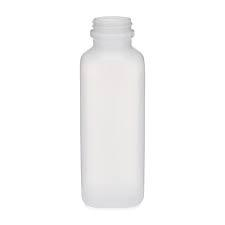Container for household chemicals: (69, 13, 156, 221)
